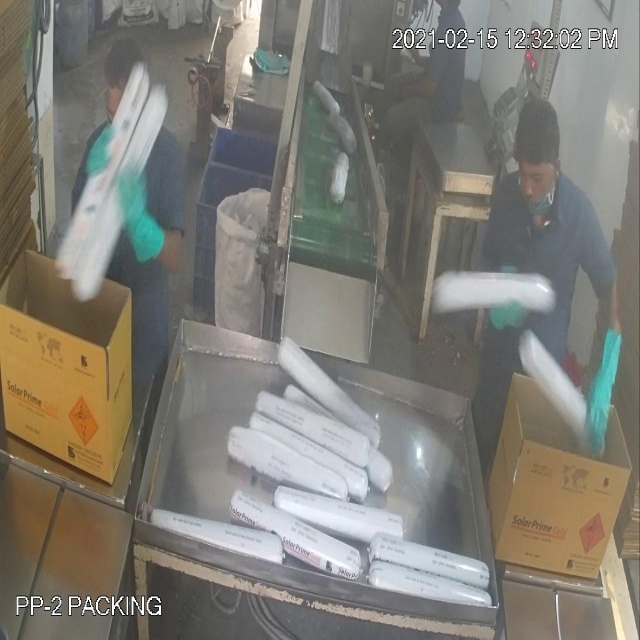Guantes: (117, 159, 171, 282), (580, 312, 624, 459)
Sin_guantes: (391, 49, 442, 107)
